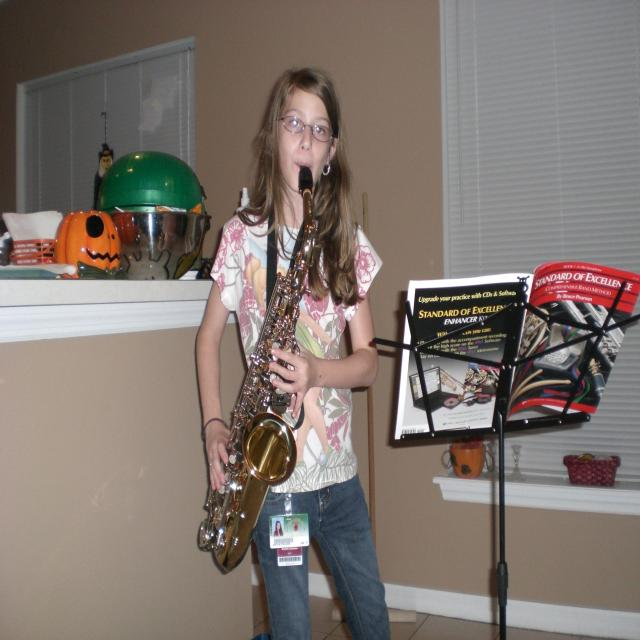saxophone: (194, 162, 320, 579)
